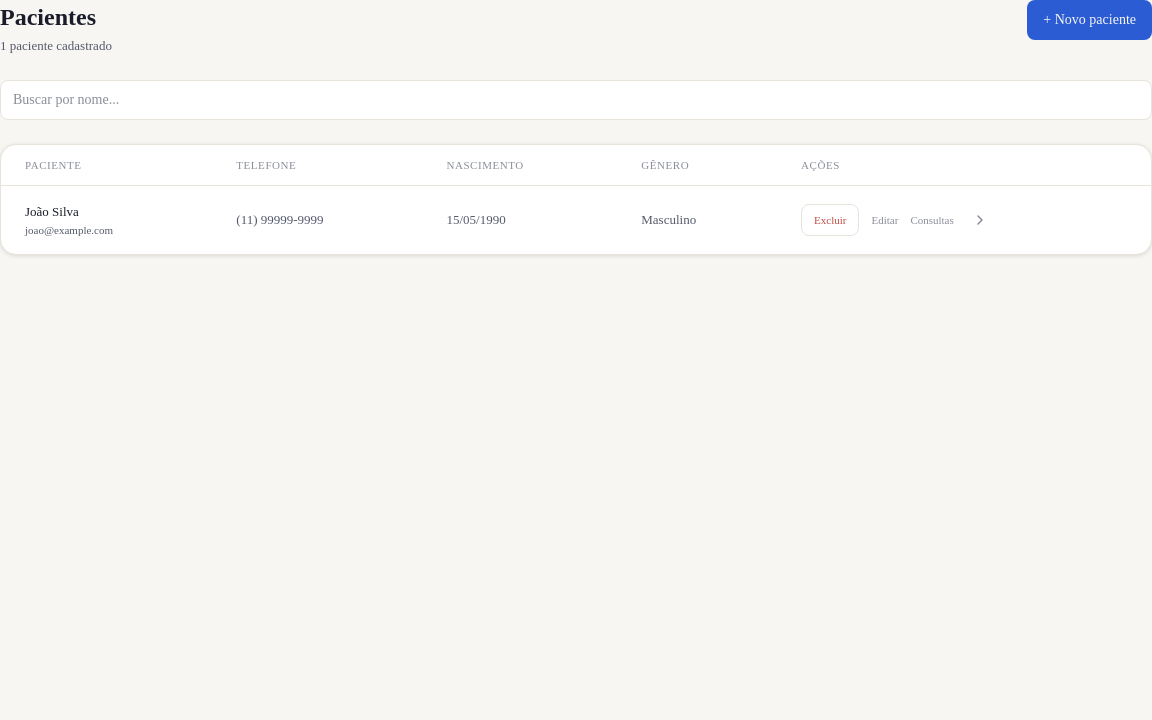
it: PatientList (integration) › closes delete dialog when cancel is clicked
Expected: the table with test id "patient-list-table" is shown, [1,145,1151,254]
Step 1. Click the button with test id "patient-delete-button-uuid-1" → (830, 220), box [801,204,860,236]
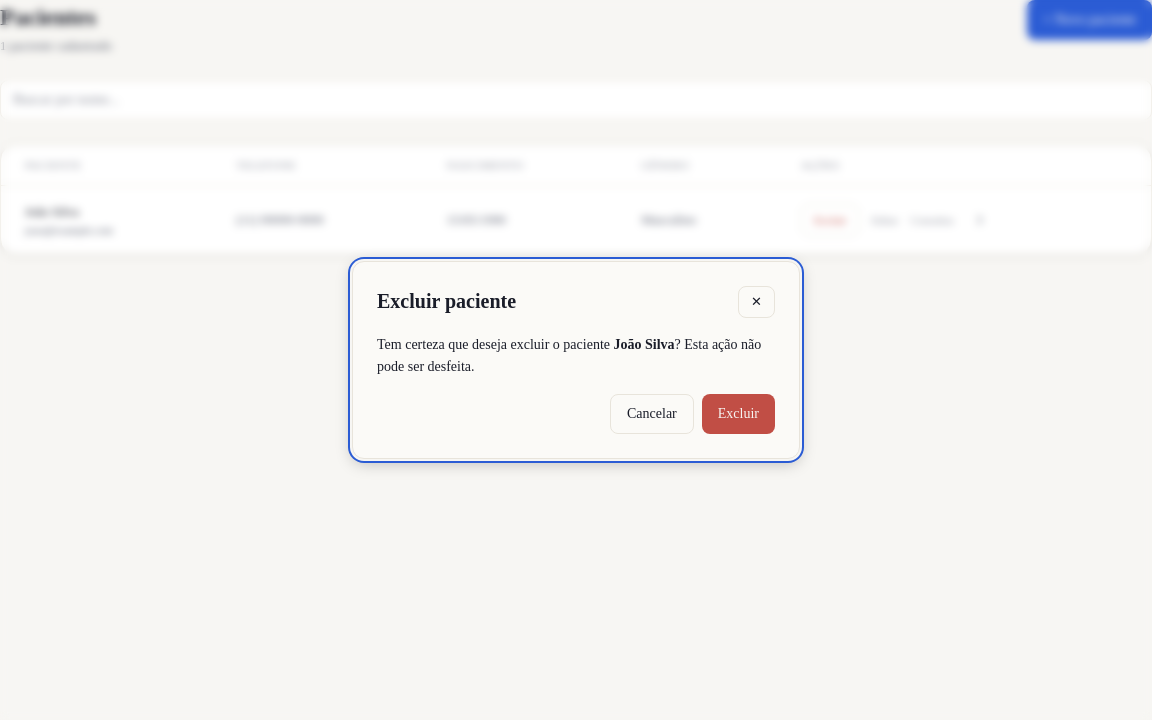
Now the button with test id "delete-patient-dialog-cancel" is shown
Step 2. Click the button with test id "delete-patient-dialog-cancel" → (652, 414), box [610,394,694,434]
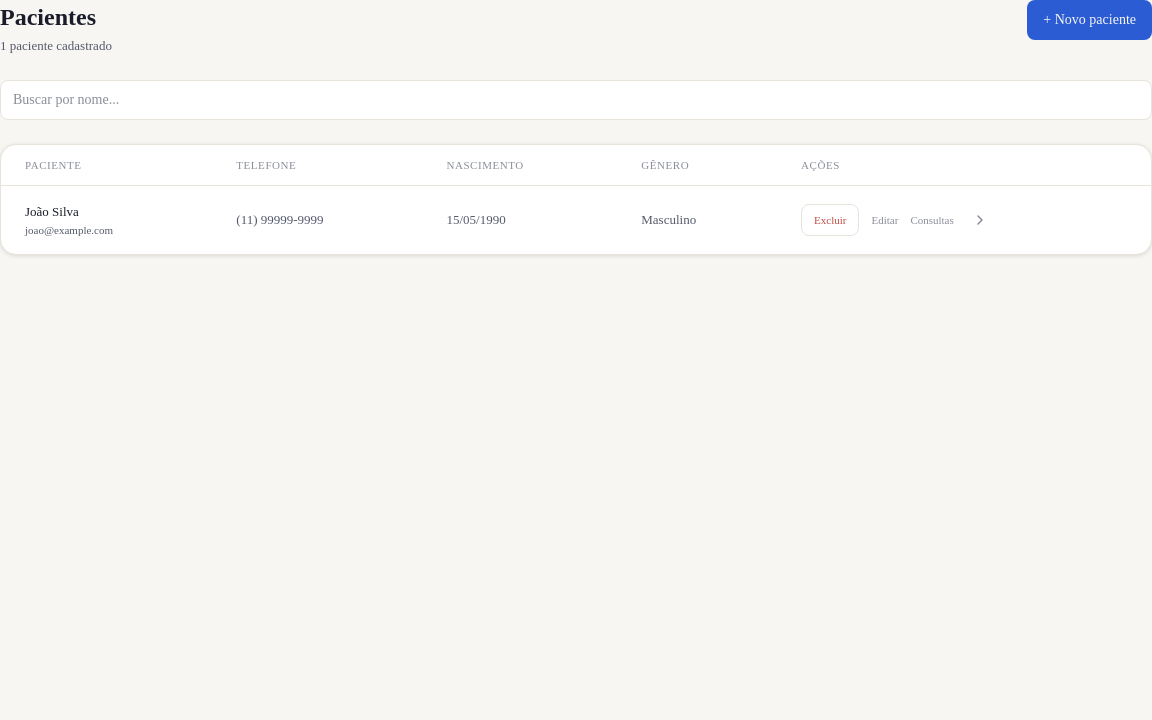
Now the button with test id "delete-patient-dialog-cancel" is gone
